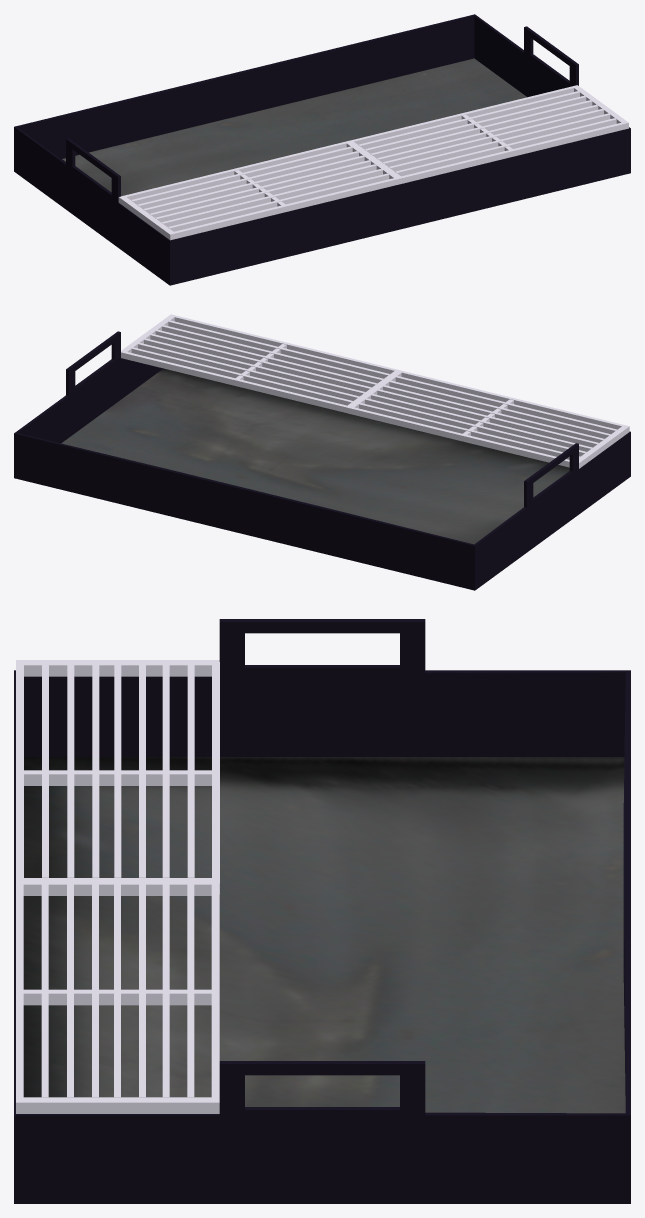
File: Hotteok_pan.fbx
3 renders of one model, top to bottom at view 1: azimuth 30°, elevation 25°; view 2: azimuth 150°, elevation 25°; view 3: azimuth 270°, elevation 25°, orthographic. The views are drawn at different scales.
Parts seen in each view (by area): view 1: pan, grill_L, grill_R; view 2: pan, grill_L, grill_R; view 3: pan, grill_R, grill_L.
Part boxes in pixels (x1,y1,x2,y2): pan: [14, 14, 630, 285]; grill_L: [118, 141, 398, 240]; grill_R: [346, 85, 628, 184]; pan: [14, 331, 630, 590]; grill_L: [346, 370, 629, 468]; grill_R: [121, 314, 401, 412]; pan: [14, 619, 630, 1203]; grill_R: [16, 879, 219, 1113]; grill_L: [16, 660, 219, 894].
Bounding box in the file's own units: 391 × 57.42 × 229.
3 materials, 1 textured.
